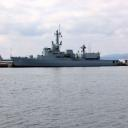Fragata: (11, 27, 121, 69)
